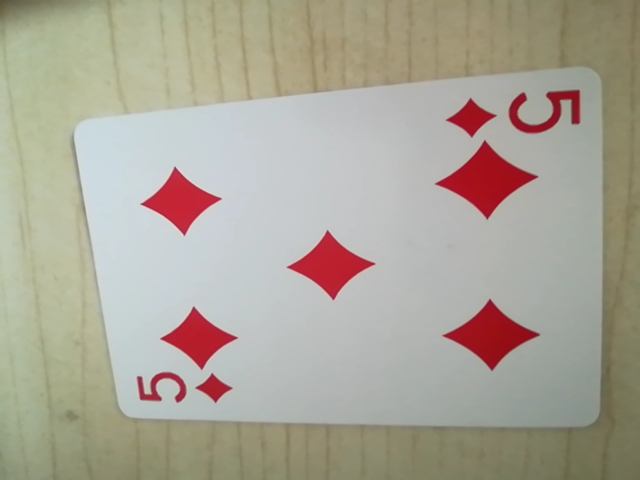fk 5: (446, 82, 584, 145), (130, 364, 237, 414)
